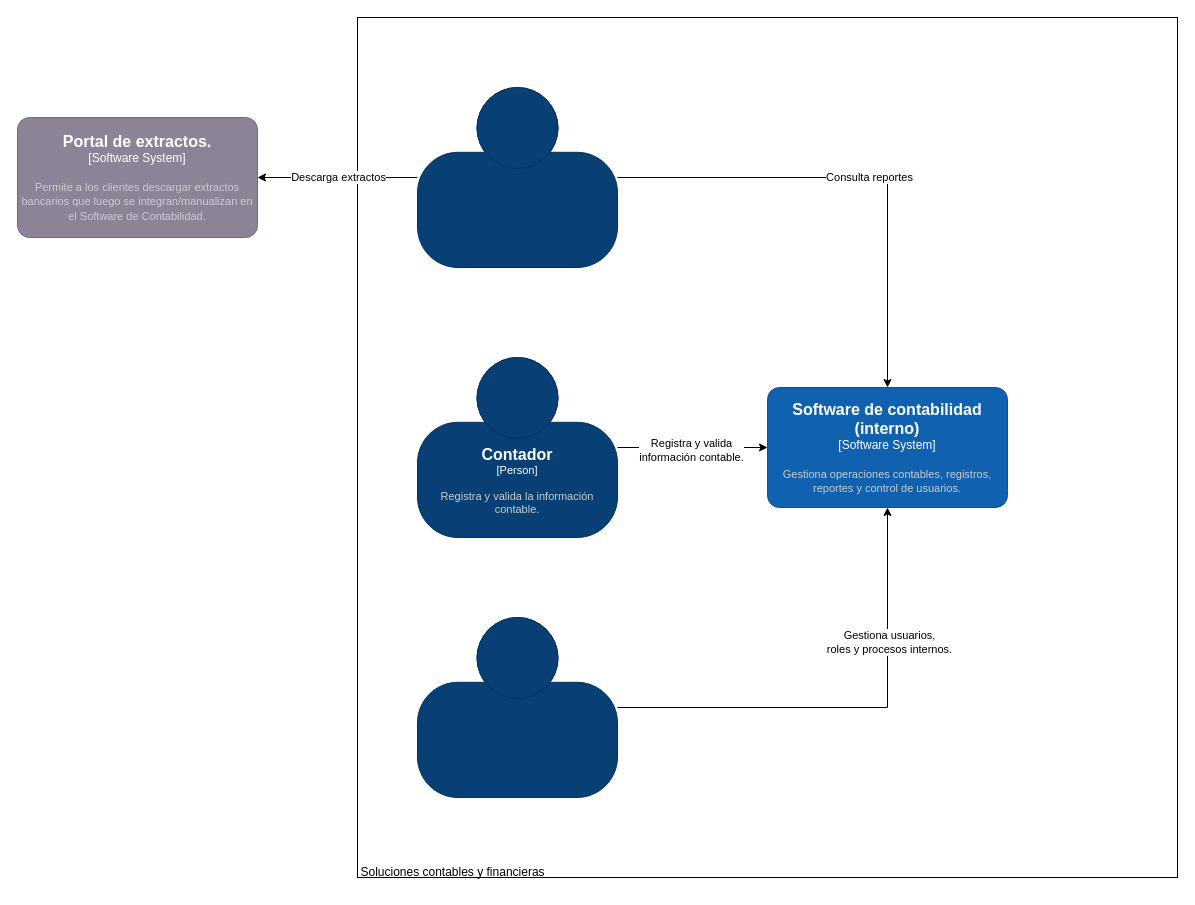
This 1195x905 diagram has some shape labels left out. The centre of each missing label's shape, as x and y in pixels:
Administrador [Person] Gestiona usuarios, permisos y procesos.: (517,707)
Cliente [Person] Usa el sistema para consultar sus estados financieros.: (517,177)
